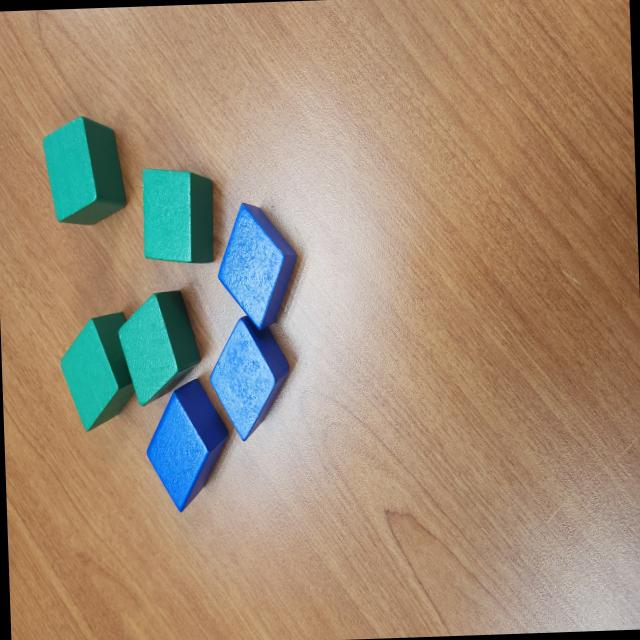blue: (143, 378, 232, 512), (214, 200, 300, 334), (207, 314, 292, 442)
green: (118, 287, 202, 408), (40, 113, 127, 228), (58, 311, 137, 432), (140, 165, 216, 266)
